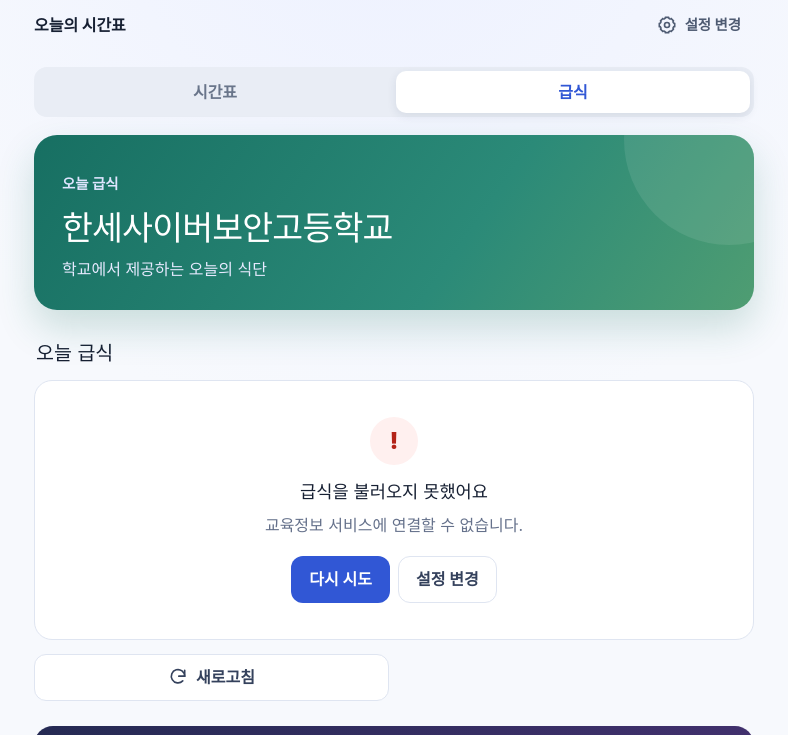
Test: MealView › shows a safe error and retries
Expected: the message shows "교육정보 서비스에 연결할 수 없습니다.", [265,514,523,534]
Click the button "다시 시도". click: (341, 580)
box: [291,556,390,603]
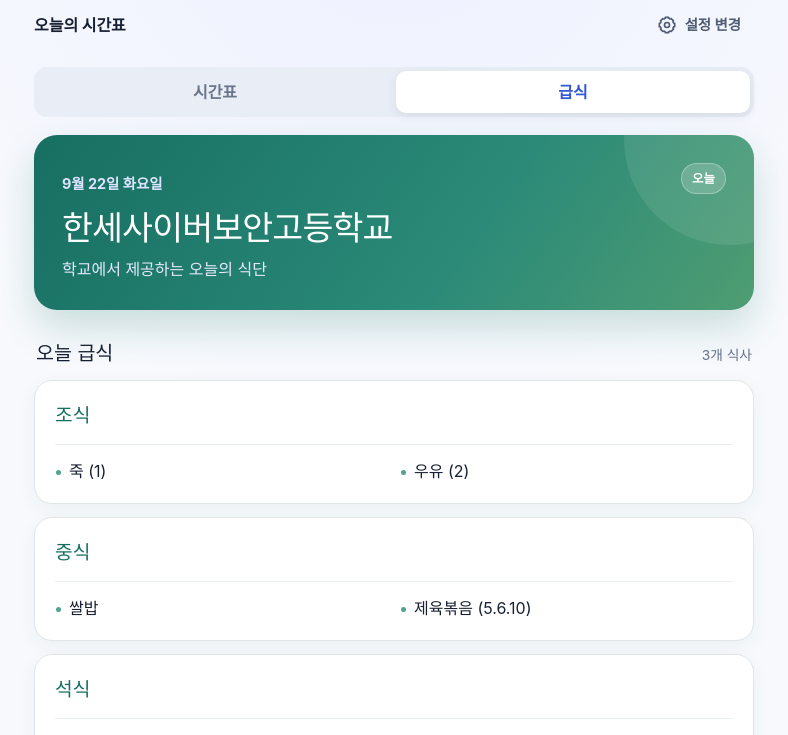
Expected: the list item "제육볶음 (5.6.10)" is shown, [414,598,532,618]
